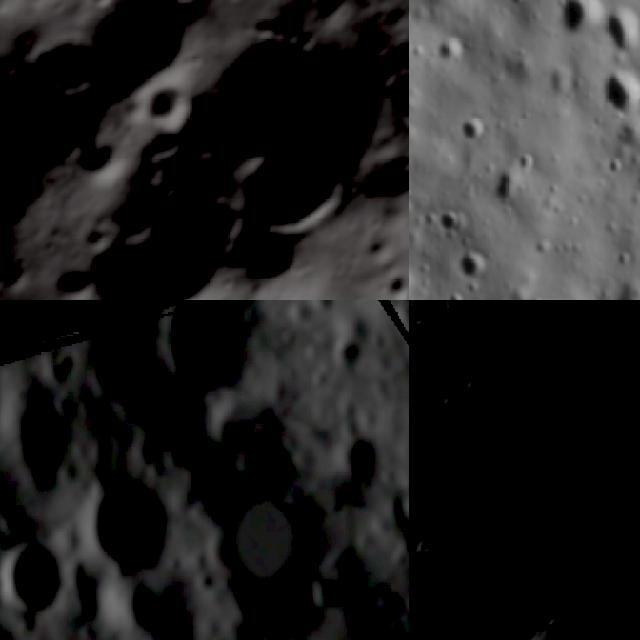crater: (410, 300, 640, 614), (136, 0, 407, 259), (50, 139, 259, 300), (118, 300, 312, 432), (23, 0, 208, 133), (226, 130, 358, 264), (60, 455, 192, 589), (0, 364, 108, 510), (111, 557, 245, 640), (0, 523, 84, 636), (0, 300, 44, 479), (319, 421, 395, 496), (365, 44, 409, 144), (137, 67, 200, 133), (300, 564, 363, 630), (320, 320, 380, 383), (598, 62, 640, 136), (363, 300, 409, 353), (598, 8, 640, 59), (424, 204, 469, 247), (378, 515, 409, 575), (559, 0, 602, 36), (409, 300, 454, 332), (453, 115, 489, 154), (373, 264, 409, 300), (454, 253, 491, 285), (0, 460, 15, 533)
